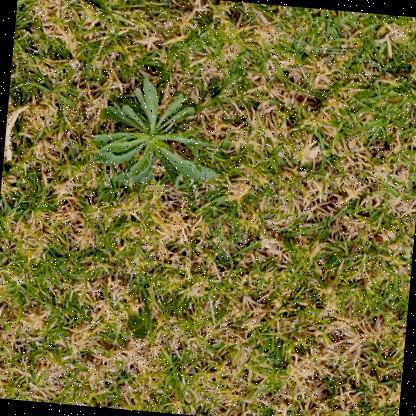Weeds: (91, 75, 228, 191)
